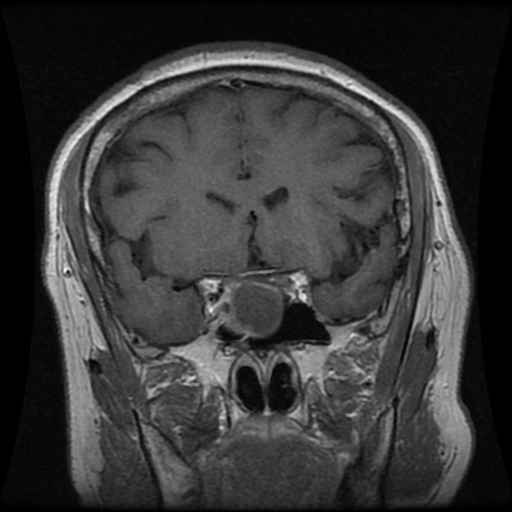pituitary: (219, 278, 284, 339)
